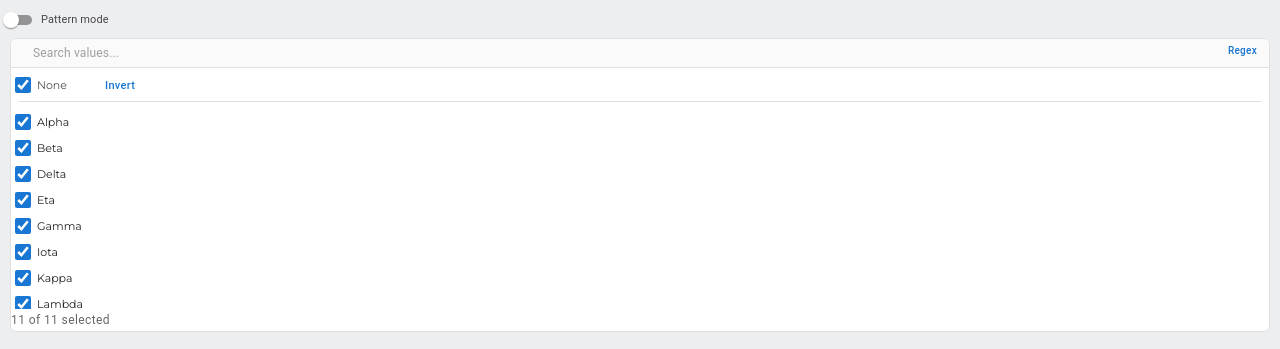
Test: DiscreteFilterControl › filters the rendered list even when all values are selected
Type "om" into the field with placeholder "Search values..." at (619, 53), box [19,43,1220,63]
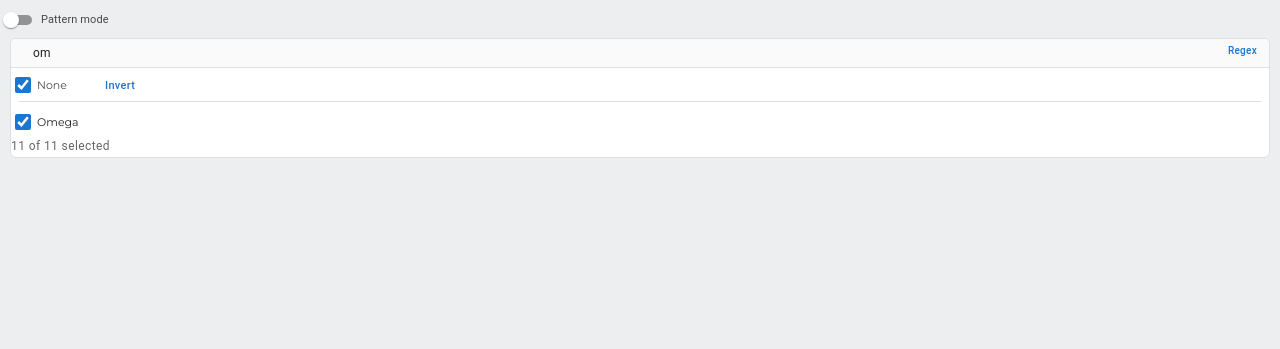
Expected: the text "Omega" is shown, [37,116,79,129]
Expected: the text "Alpha" is gone
Expected: the text "Gamma" is gone
